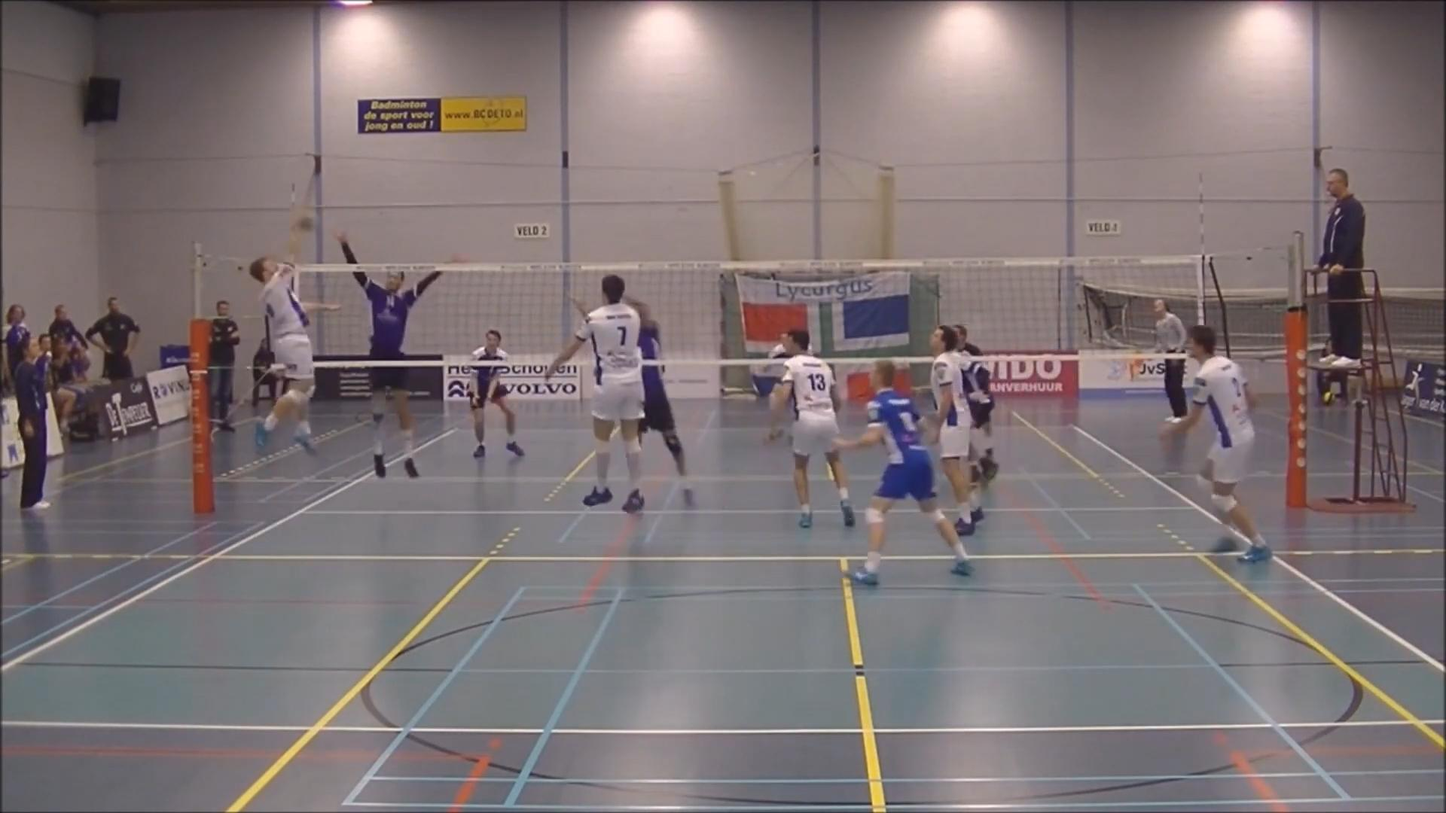attacco: (232, 219, 344, 454)
muro: (331, 220, 473, 496)
